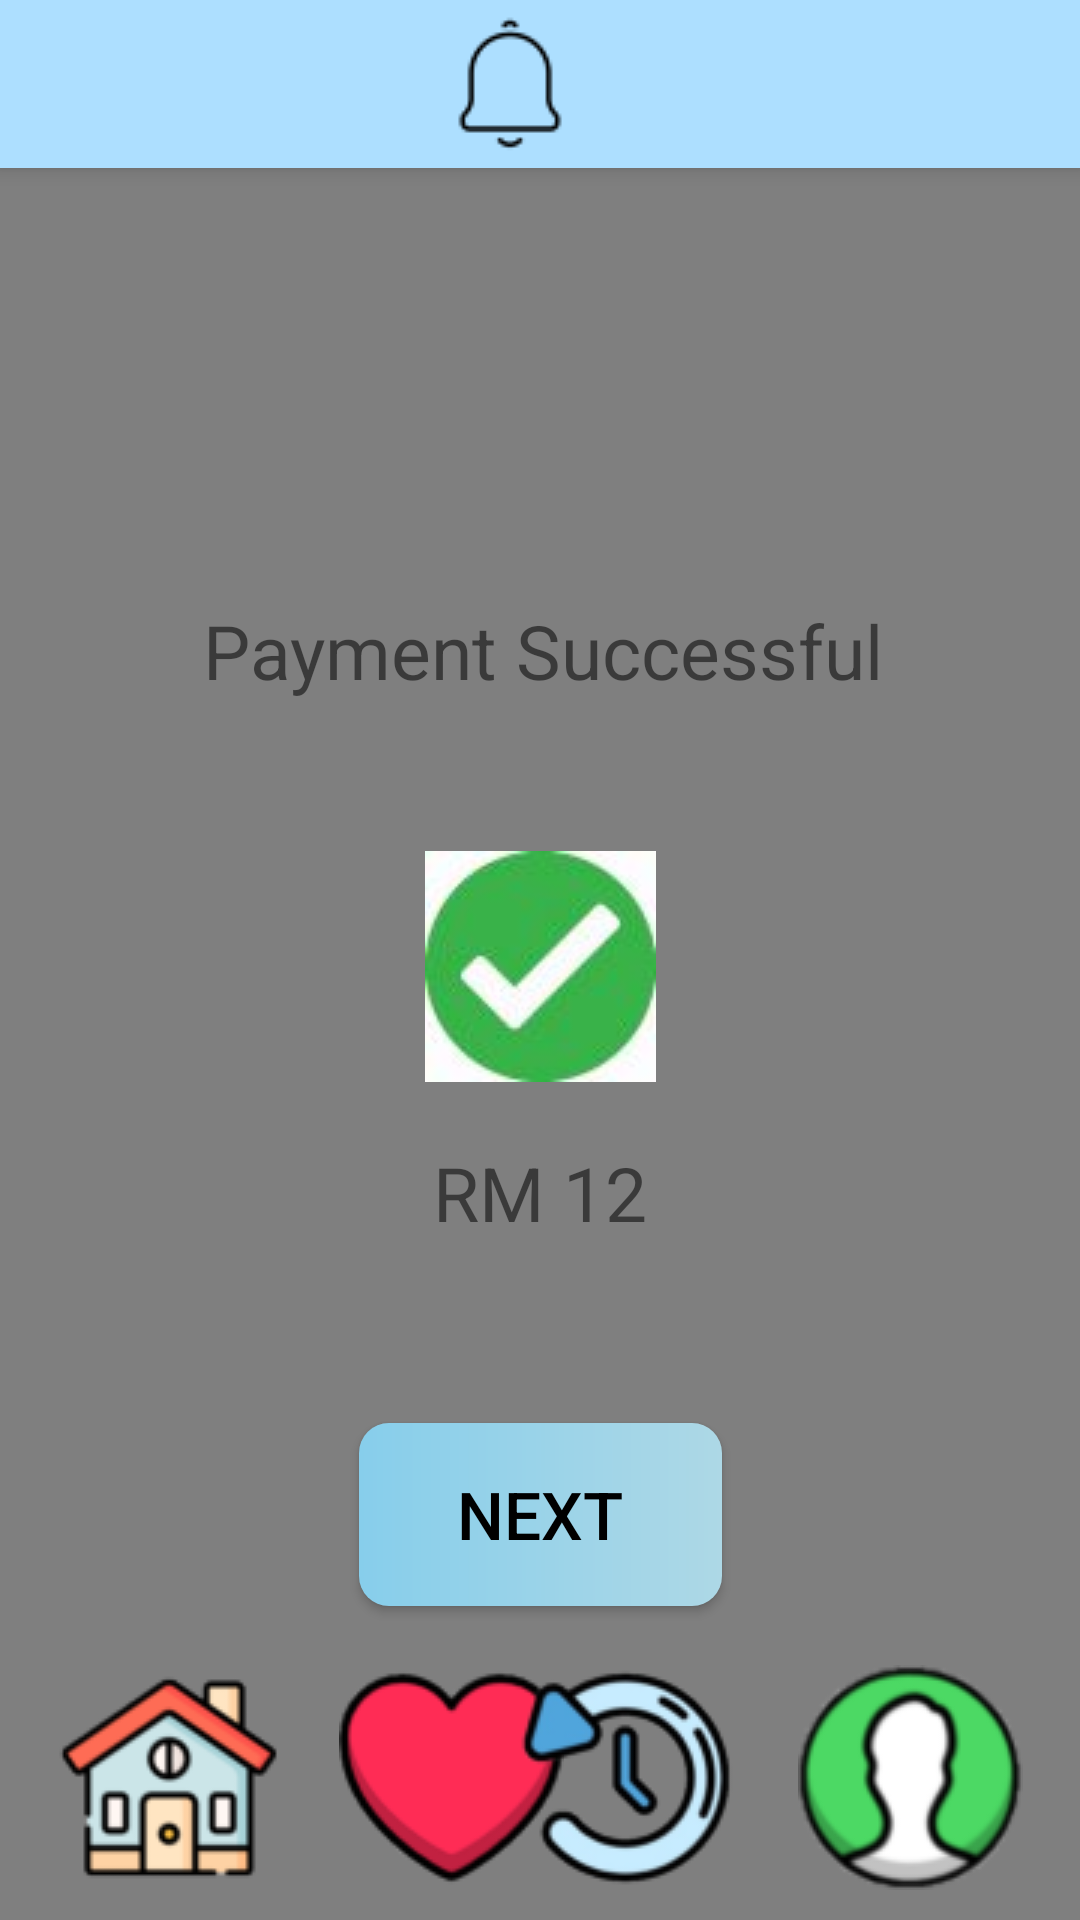

Icon bounding boxes for this 1080 × 1920 phone screenshot, format (x1, y1, x2, y2):
correct: (425, 851, 656, 1082)
heart: (339, 1673, 564, 1882)
history: (516, 1673, 730, 1882)
home: (62, 1679, 277, 1876)
notification: (458, 18, 562, 148)
profile: (798, 1667, 1021, 1888)
